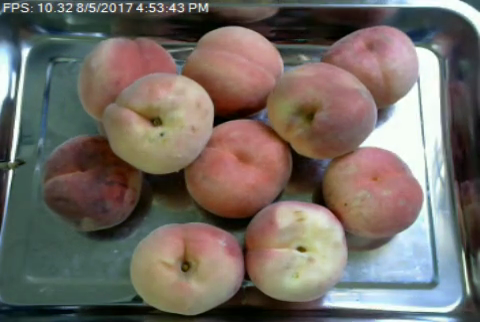Peach: (265, 62, 381, 162), (102, 75, 217, 174), (182, 119, 293, 218), (243, 200, 349, 303), (128, 223, 245, 316), (40, 134, 142, 231), (312, 22, 424, 109), (321, 147, 424, 240), (183, 26, 284, 113), (81, 35, 174, 122)
